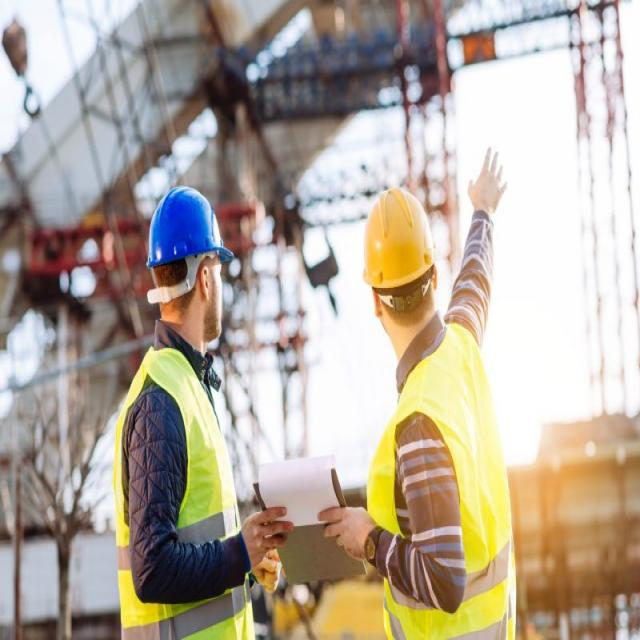Reflective-Jacket: (366, 326, 520, 640), (110, 342, 262, 640)
Safety-Helmet: (359, 178, 440, 297), (141, 179, 238, 278)
